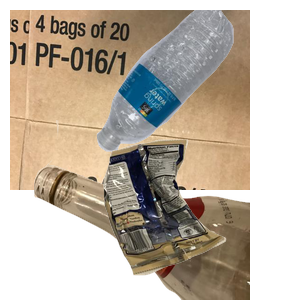cardboard: (10, 10, 250, 190)
glass: (31, 120, 271, 300)
plastic: (94, 10, 300, 154)
trash: (101, 137, 300, 300)
